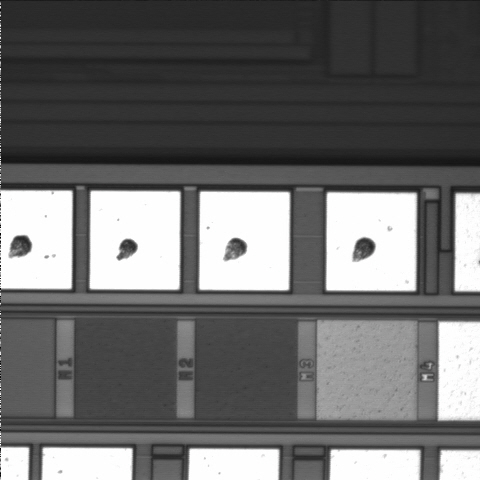pad: (199, 192, 290, 290), (90, 191, 180, 290), (326, 193, 416, 291)
